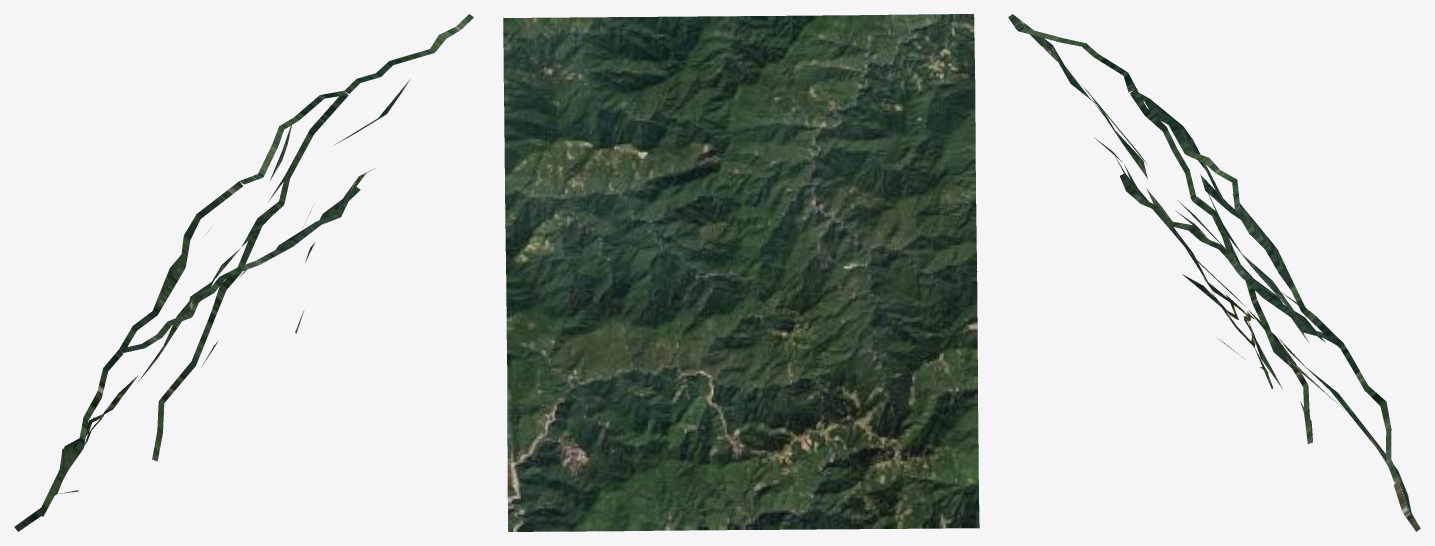
The picture shows the model from 3 angles, left to right: view 1: azimuth 30°, elevation 25°; view 2: azimuth 150°, elevation 25°; view 3: azimuth 270°, elevation 25°; orthographic projection. The views are drawn at different scales.
Size of the model in its own units: 20788 by 18165 by 16631.
1 material, 1 textured.
